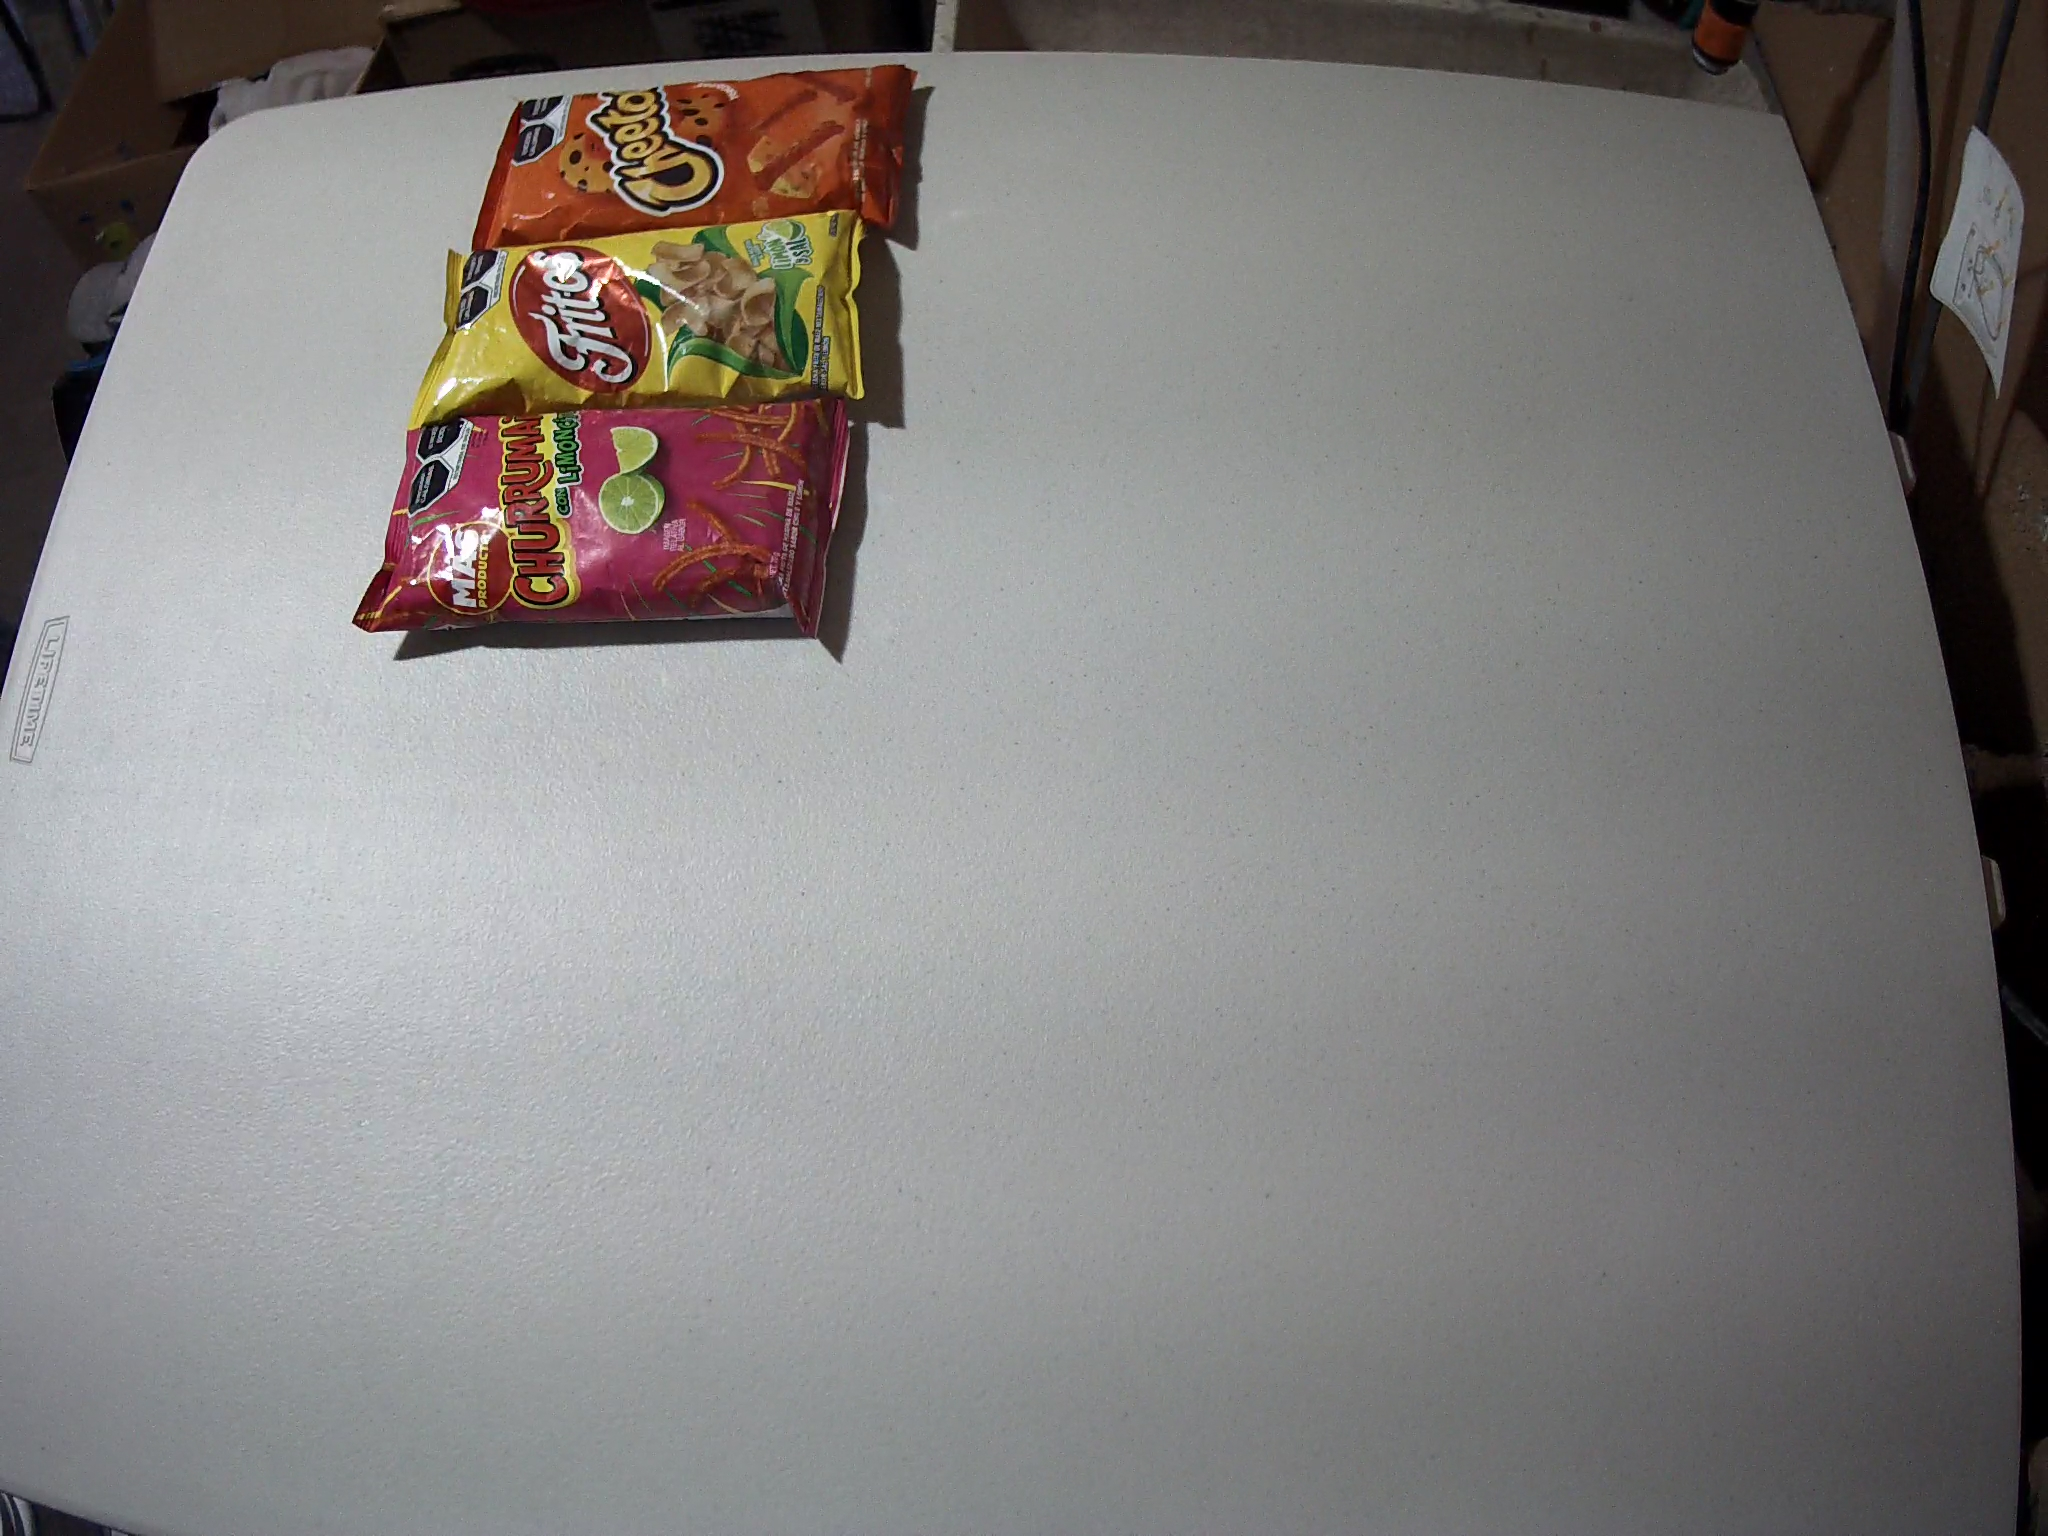CheetosTorciditos_55_F: (471, 63, 918, 239)
Churrumais_70_F: (353, 400, 851, 636)
FritosSalLimon_65_F: (410, 208, 864, 429)
